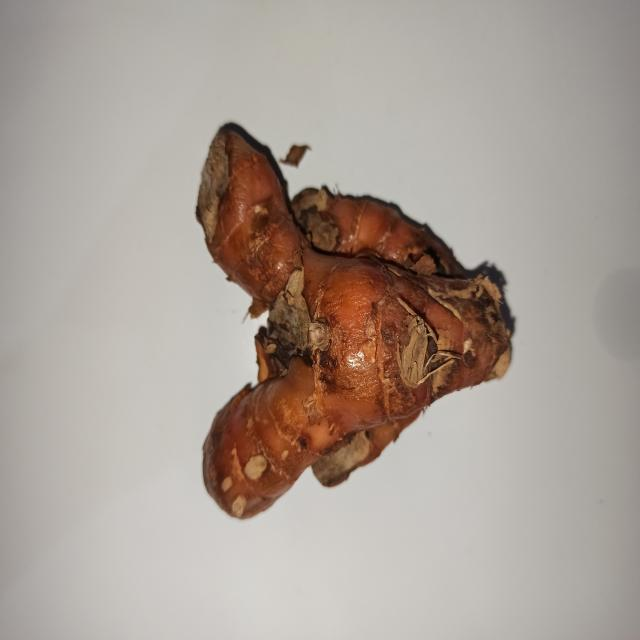ginger: (185, 135, 516, 475)
